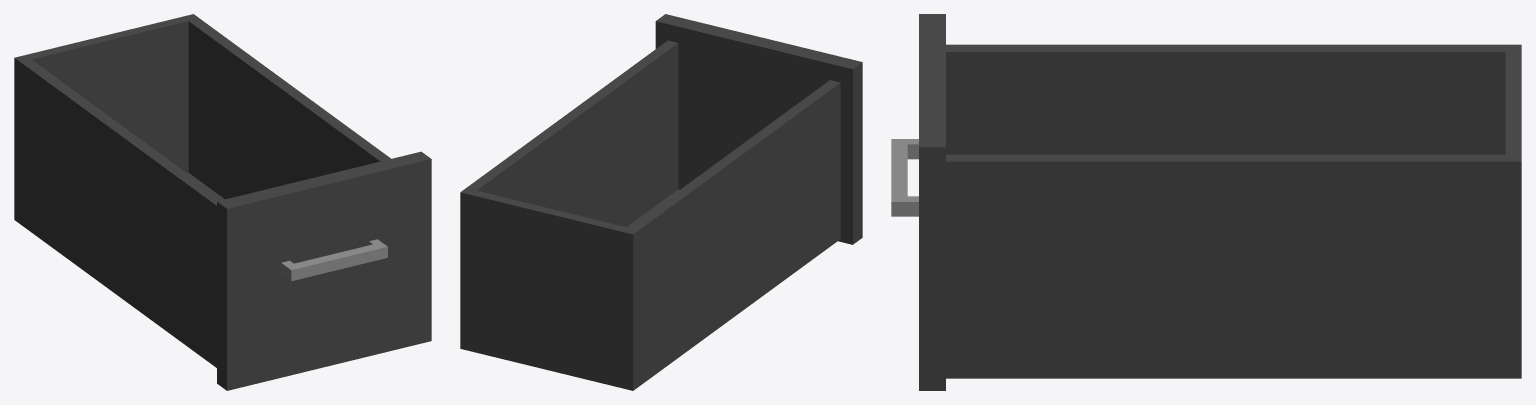
File: Door1_C3_07.fbx
3 renders of one model, left to right at view 1: azimuth 30°, elevation 25°; view 2: azimuth 150°, elevation 25°; view 3: azimuth 270°, elevation 25°, orthographic. The views are drawn at different scales.
Visible parts, largest first — view 1: Door1_C3_07; view 2: Door1_C3_07; view 3: Door1_C3_07.
Part boxes in pixels (x1,y1,x2,y2): Door1_C3_07: (14, 14, 431, 390); Door1_C3_07: (460, 14, 862, 390); Door1_C3_07: (891, 14, 1521, 390).
Size of the model in its own units: 29 by 24.68 by 57.89.
